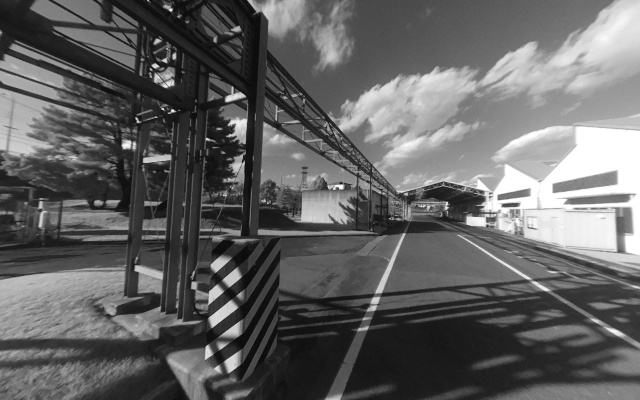bollard: (204, 235, 281, 381)
